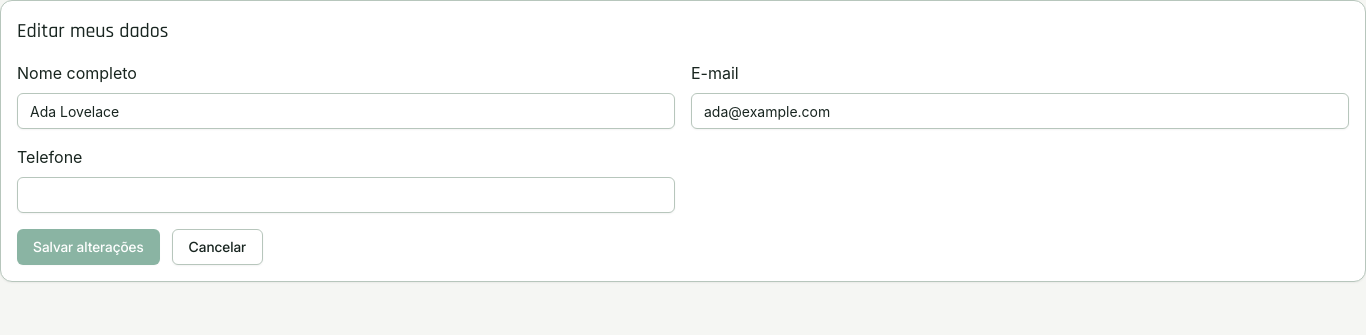
Test case: ProfileContactForm › mantém os dados após senha atual incorreta e exige nova confirmação
The image size is (1366, 335).
Replace the text in the field labelled "Nome completo" with "Ada Byron" at (346, 111), box [17,93,675,129]
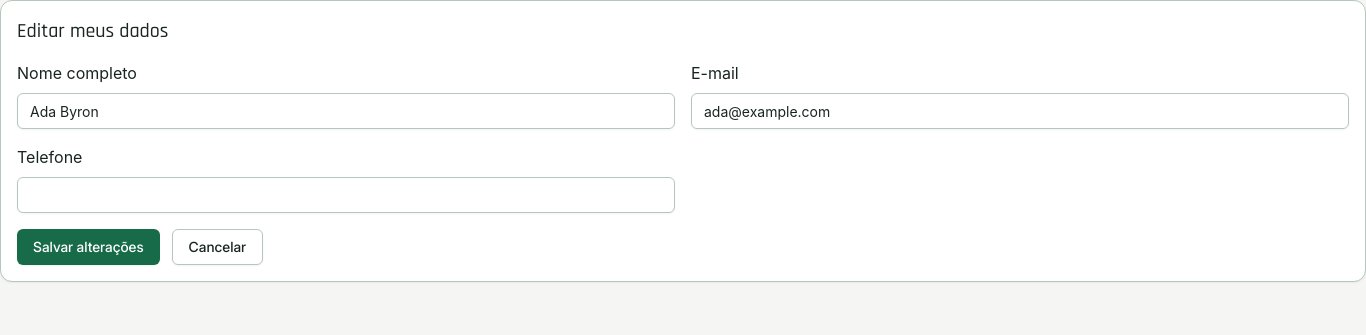
Replace the text in the field labelled "E-mail" with "ada.new@example.com" at (1020, 111), box [691,93,1349,129]
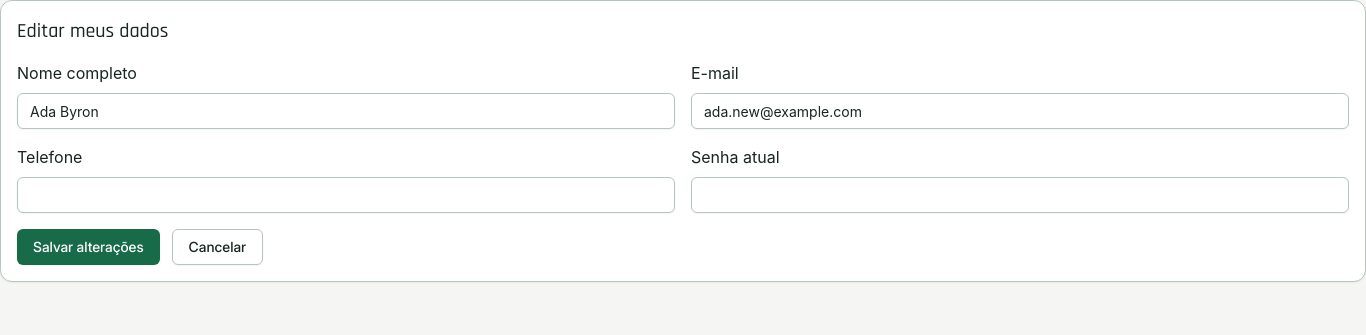
Type "wrong-password" into the password field labelled "Senha atual" at (1020, 195), box [691,177,1349,213]
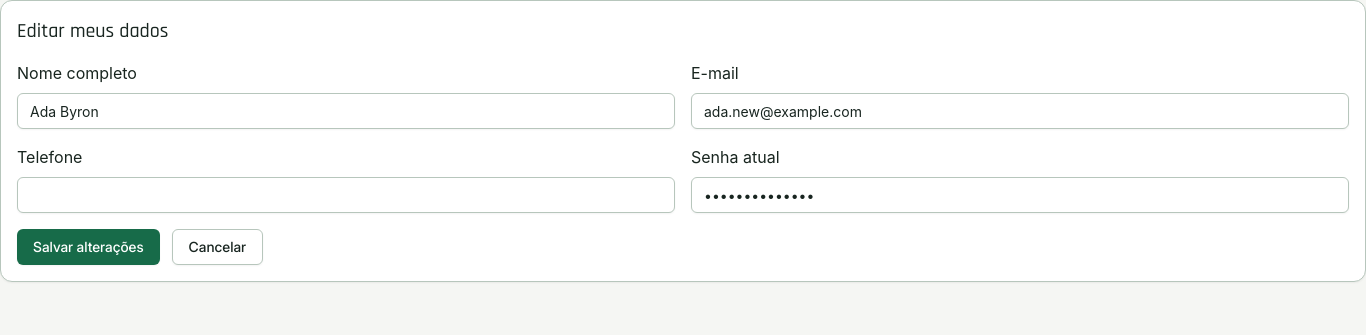
Click the button "Salvar alterações" at (88, 247), box [17,229,160,265]
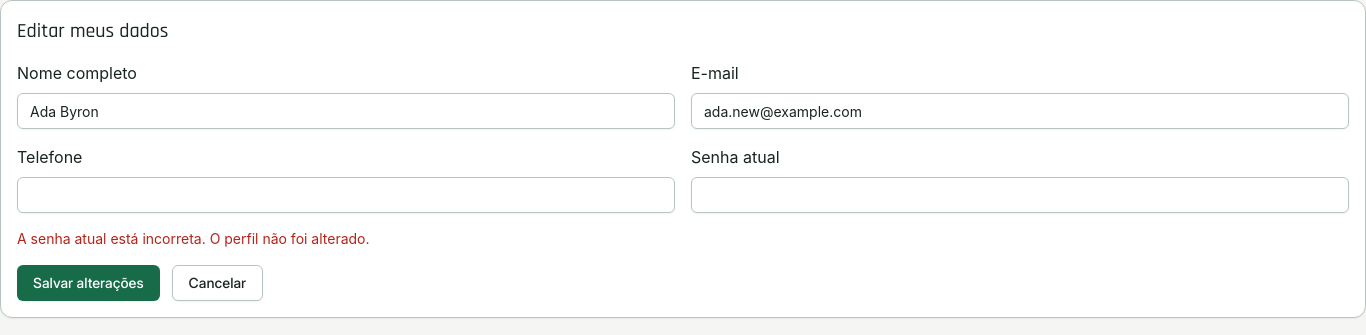
Expected: the message reads "A senha atual está incorreta. O perfil não foi alterado.", [17,230,370,247]
Expected: the password field labelled "Senha atual" is empty, [691,177,1349,213]
